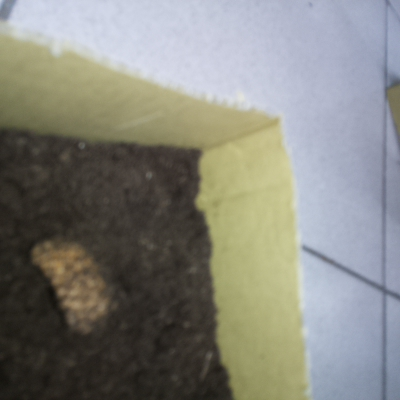eggs: (20, 228, 117, 341)
